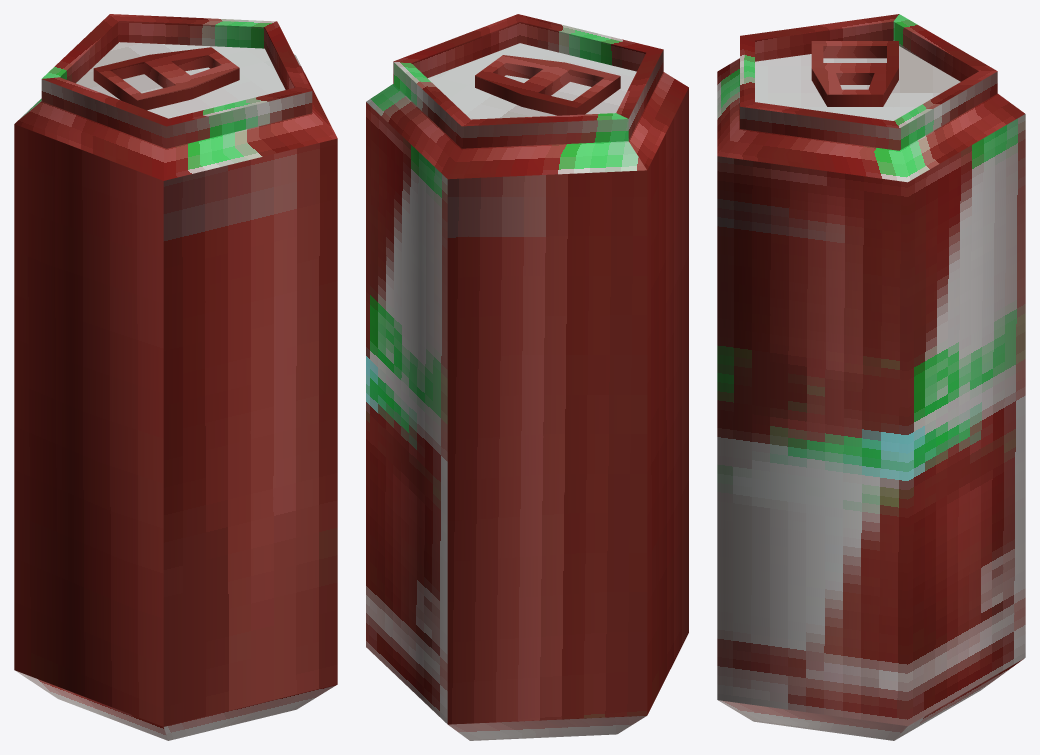
The model's file is energy_drink.glb.
3 renders of one model, left to right at view 1: azimuth 30°, elevation 25°; view 2: azimuth 150°, elevation 25°; view 3: azimuth 270°, elevation 25°, orthographic.
Parts seen in each view (by area): view 1: Circle.002; view 2: Circle.002; view 3: Circle.002.
Boxes of the visible parts, x1,y1,x2,y2 form: Circle.002: [14, 14, 337, 740]; Circle.002: [366, 14, 688, 740]; Circle.002: [717, 14, 1025, 740].
Size of the model in its own units: 0.2379 by 0.5017 by 0.2262.
1 material, 1 textured.
